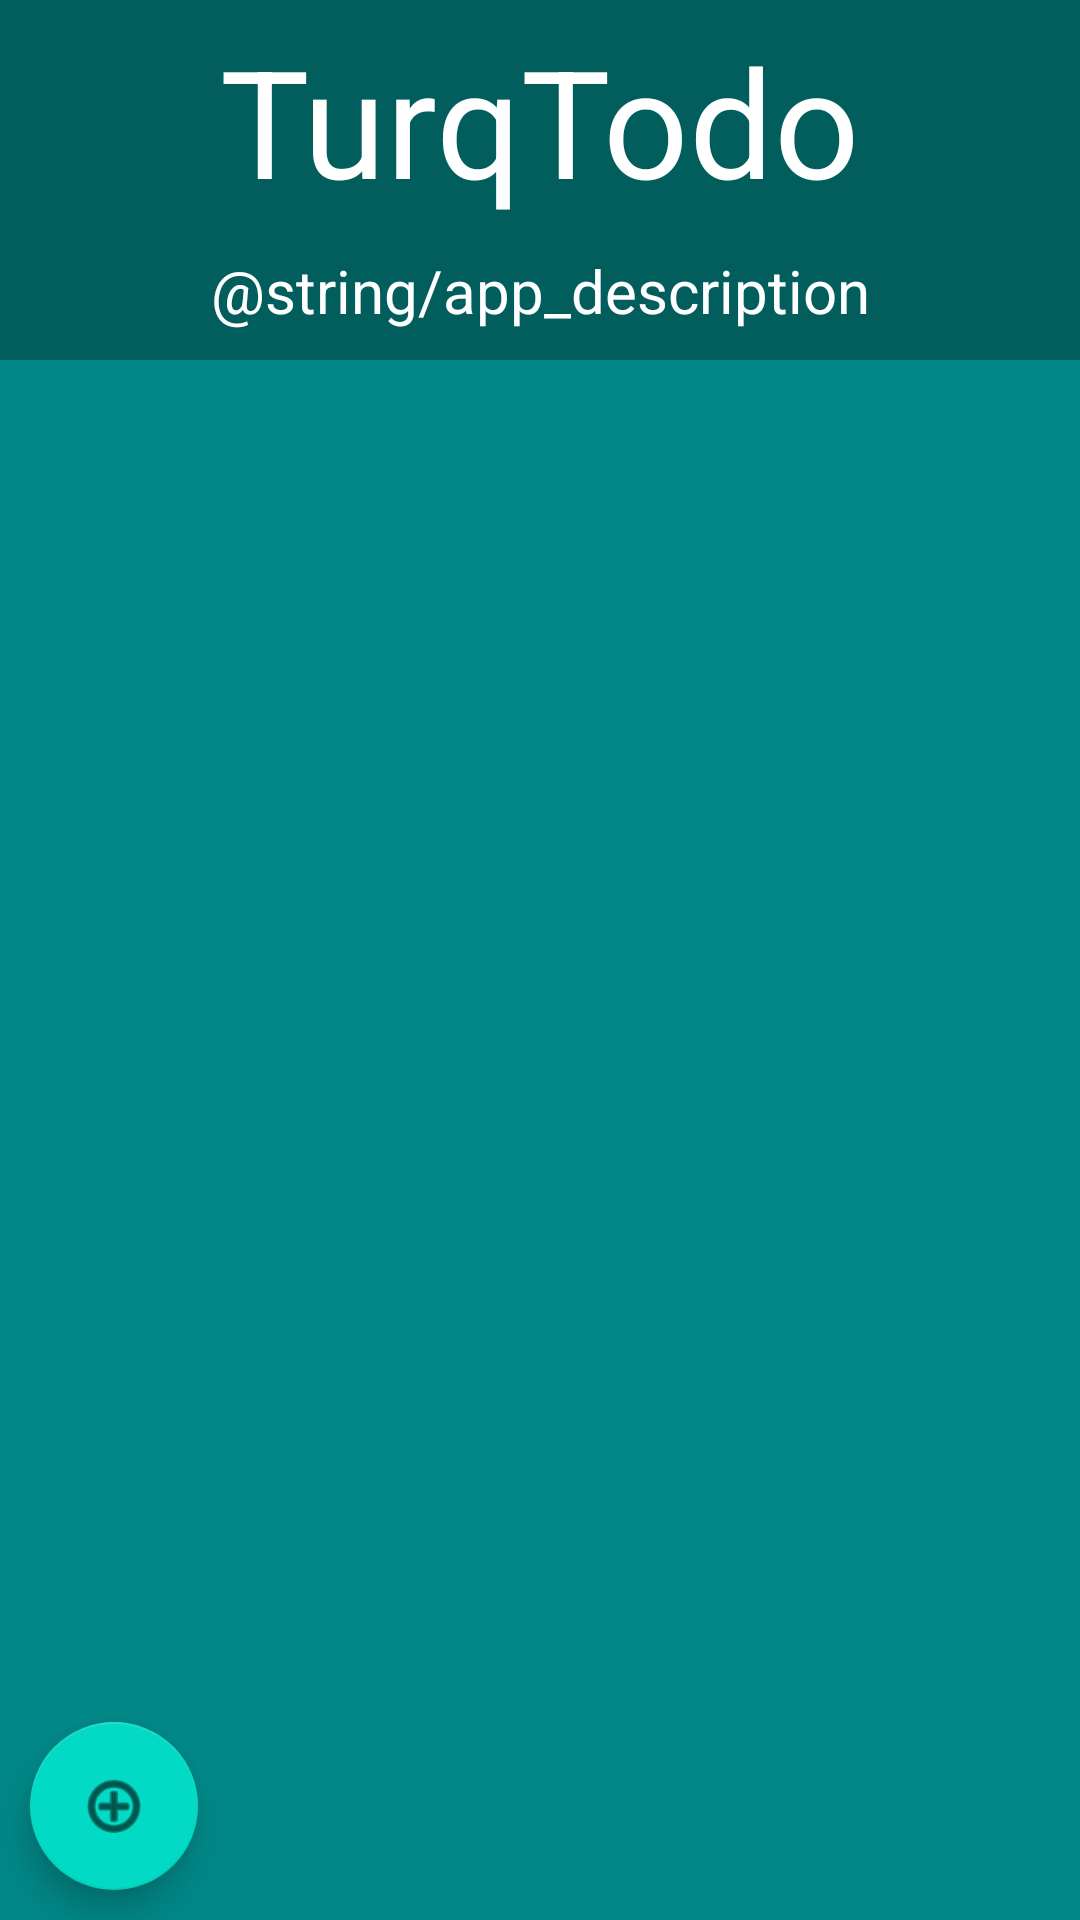

Icons on this 1080px×1920px Android screen, each with the point to tap as [x,y]:
add: [114,1806]
